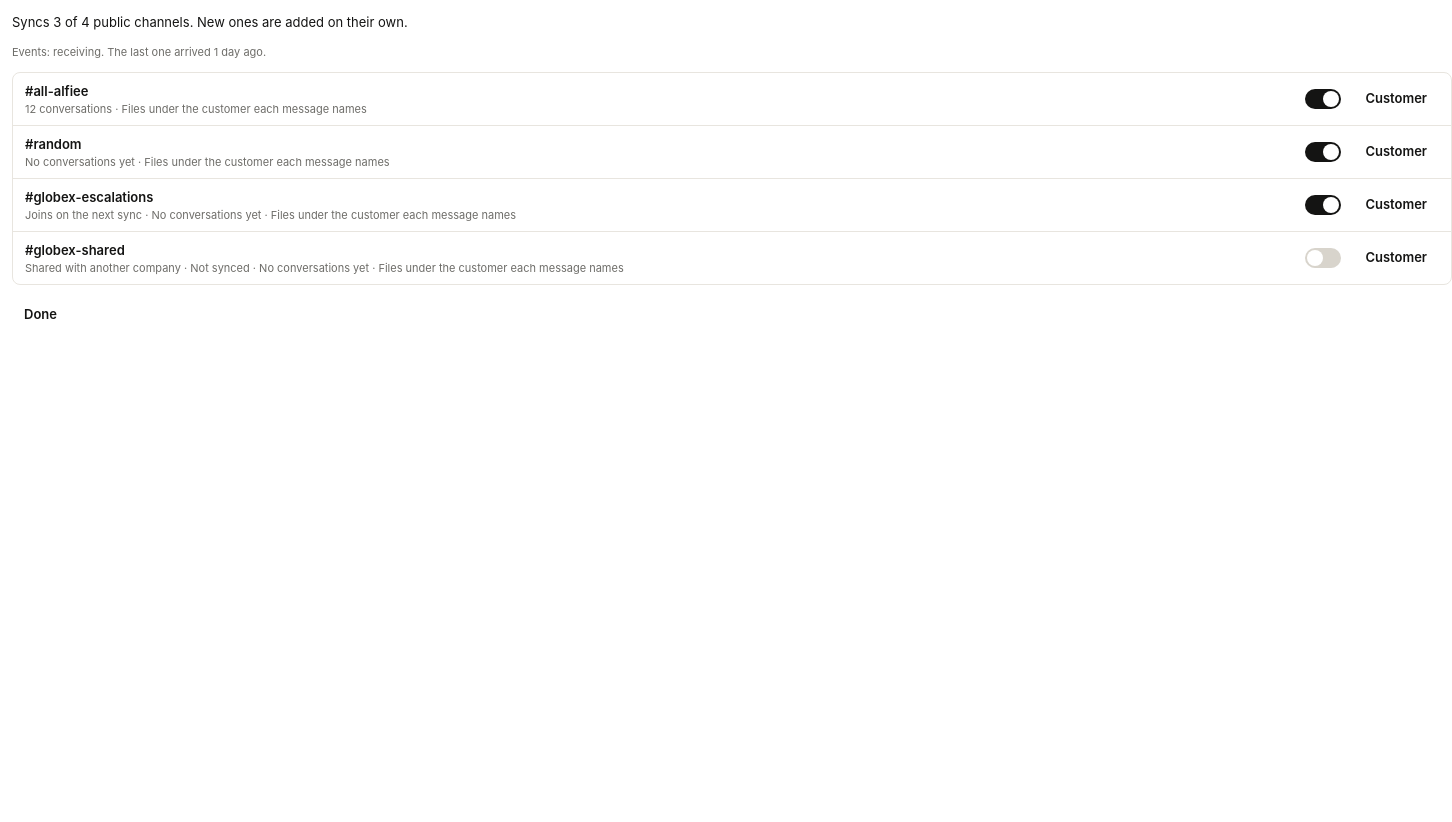
SlackChannelsPanel (frontend Decisions 2 to 4) › shows a refused customer save once, inside the form (R4)
Expected: the text "#globex-escalations" is shown, top-left (25, 189), bottom-right (153, 205)
Click the button with aria-label "Choose the customer of #globex-escalations". click: (1396, 205)
box: top-left (1353, 187), bottom-right (1439, 223)
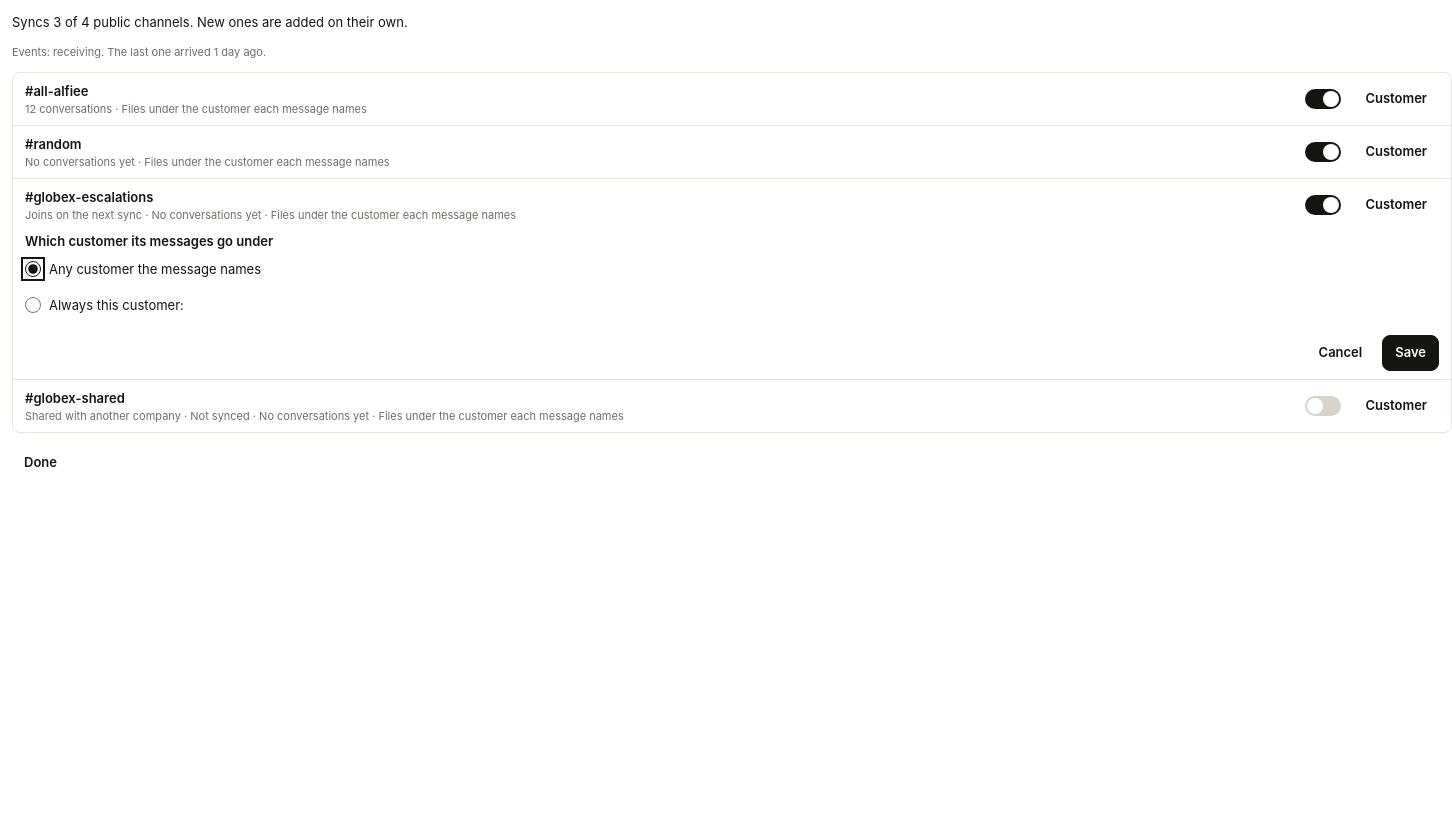
Click the radio button labelled "Always this customer:". click: (33, 305)
box: top-left (25, 297), bottom-right (41, 313)
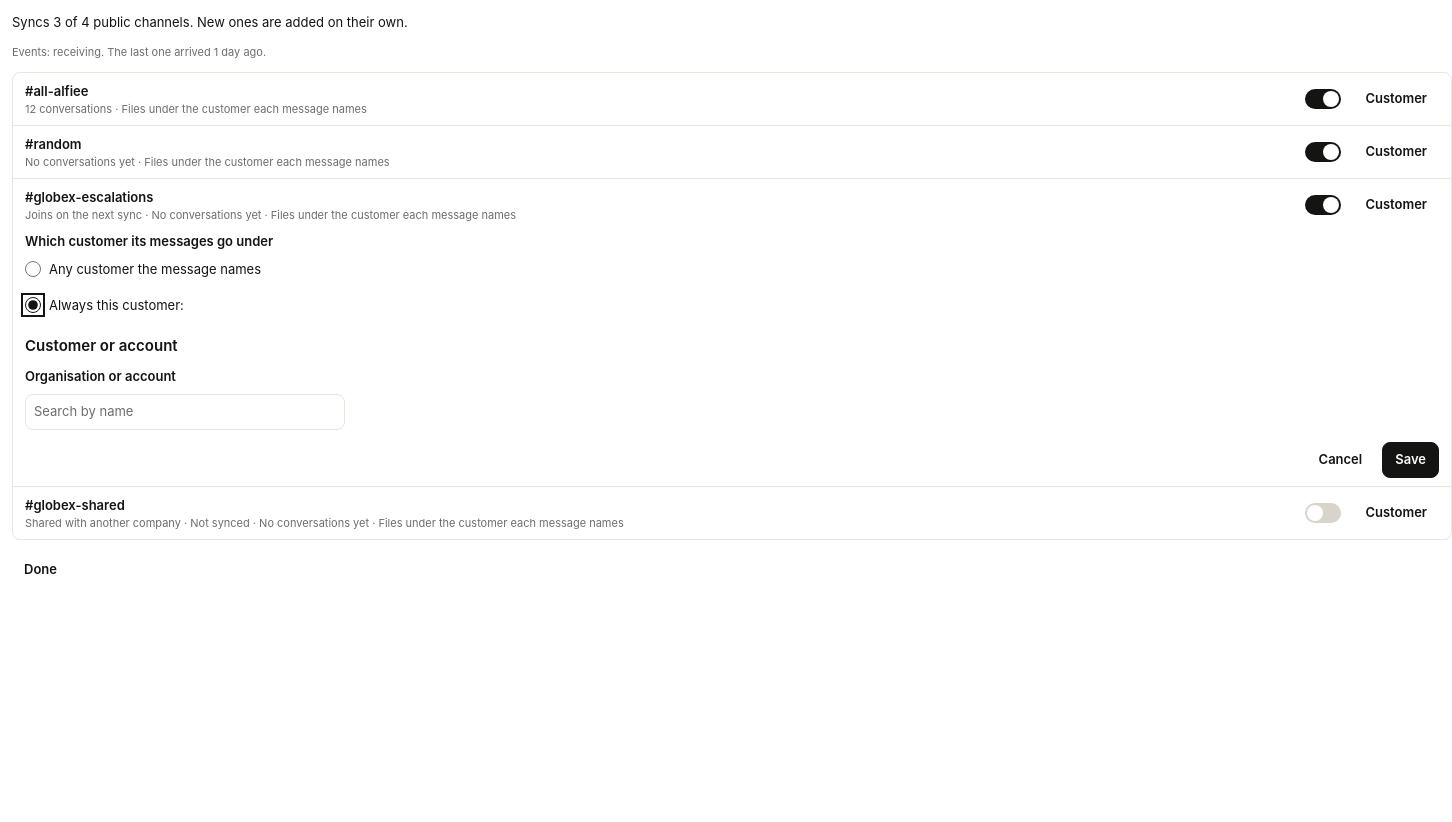
Type "Glo" into the search field labelled "Organisation or account". click: (185, 412)
box: top-left (25, 394), bottom-right (345, 430)
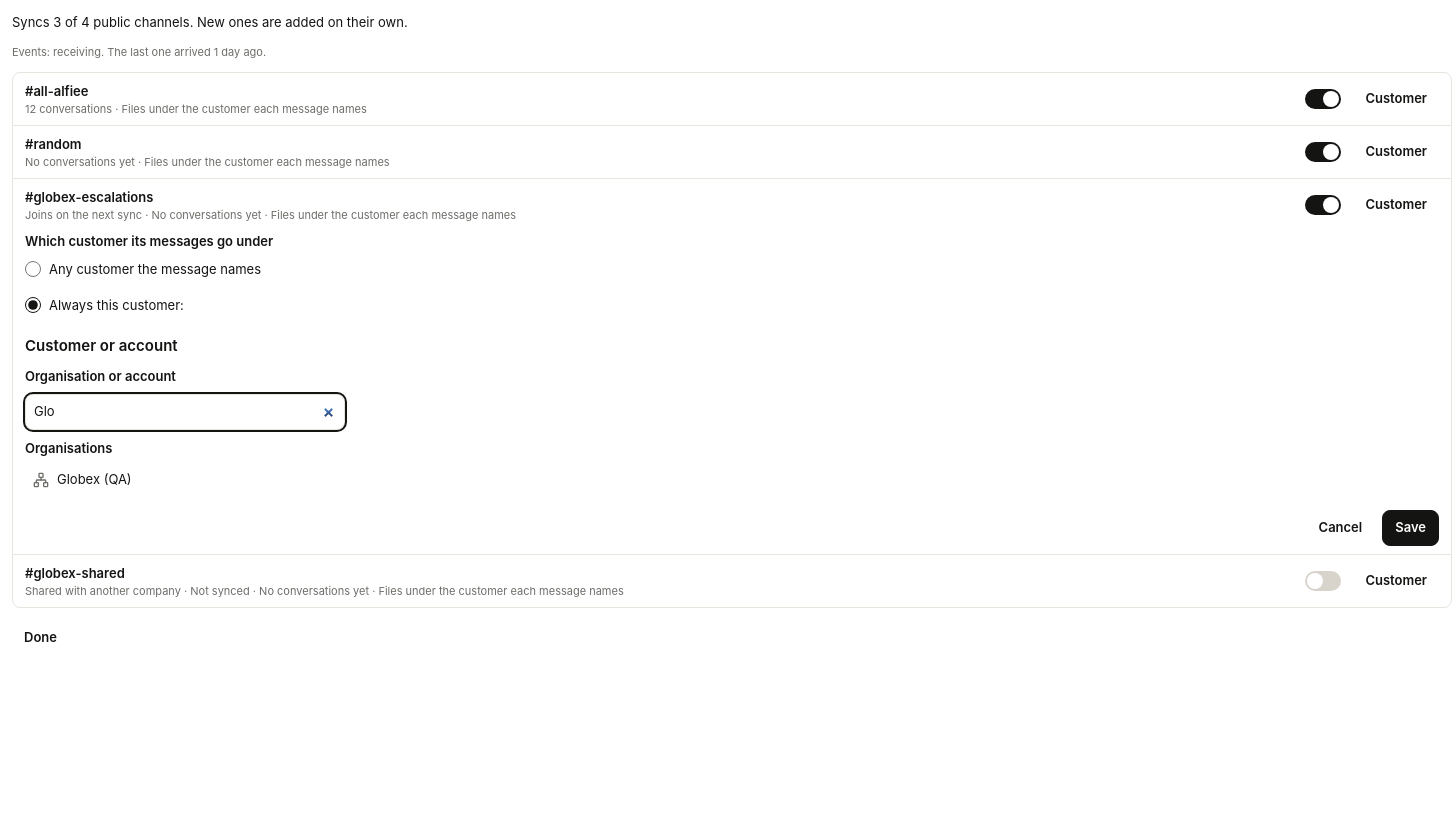
Click the button "Globex (QA)". click: (94, 479)
box: top-left (25, 462), bottom-right (1439, 498)
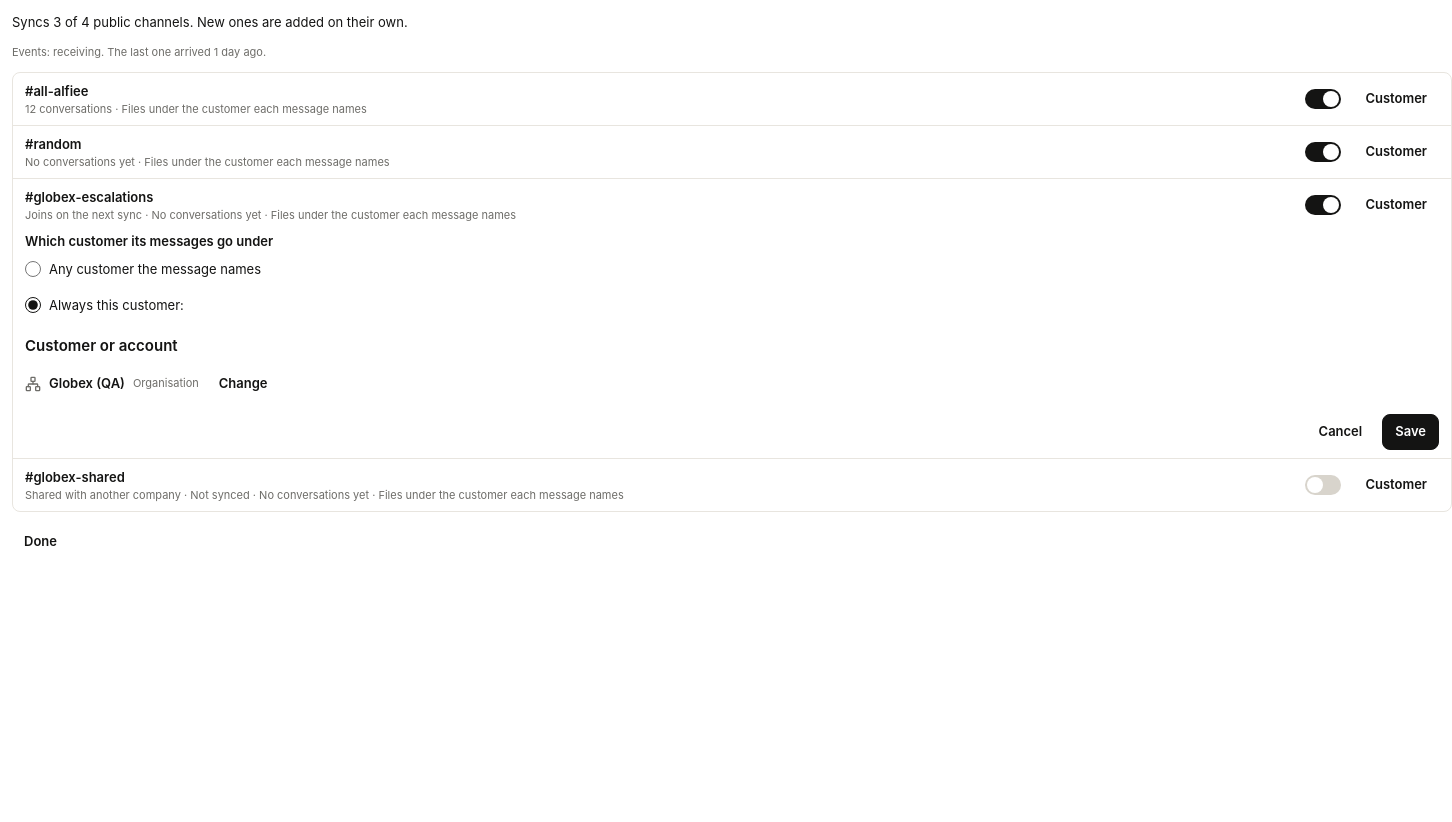
Click the button "Save". click: (1411, 432)
box: top-left (1382, 414), bottom-right (1439, 450)
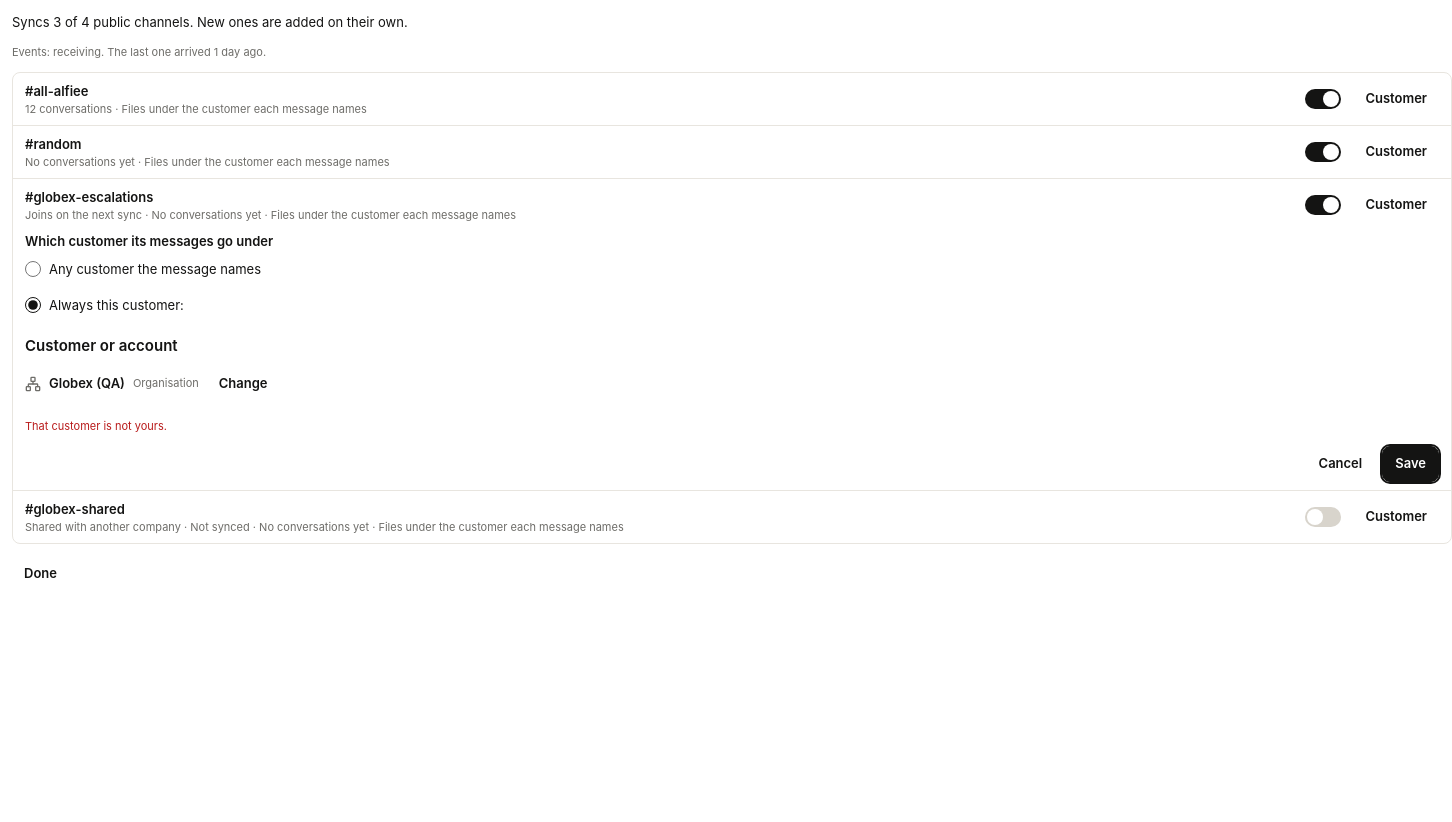
Expected: the form is shown, top-left (25, 231), bottom-right (1439, 482)
Expected: the number of messages is 1, top-left (25, 418), bottom-right (167, 432)
Expected: the message reads "That customer is not yours.", top-left (25, 418), bottom-right (167, 432)
